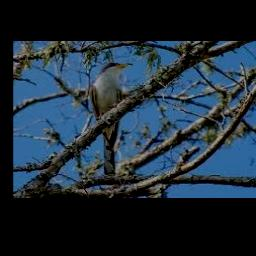Cuckoo: (89, 62, 132, 178)
